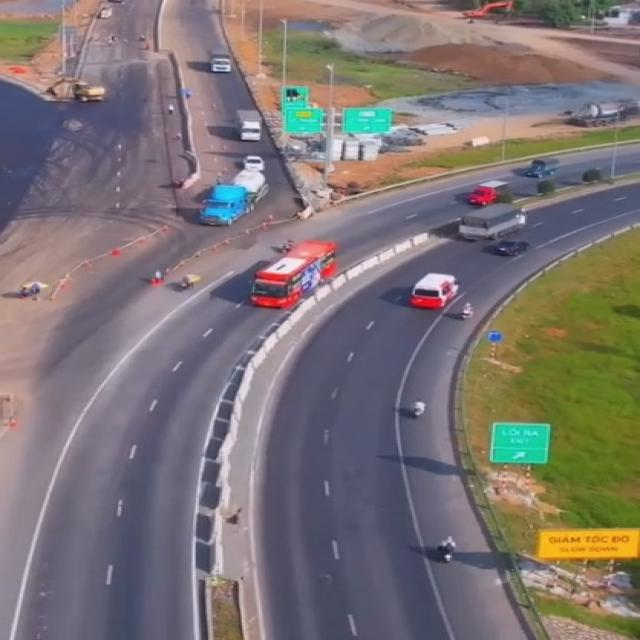bus: (248, 238, 342, 307), (407, 270, 461, 309)
car: (493, 238, 530, 258), (244, 153, 268, 172)
motorbike: (434, 536, 466, 561), (172, 274, 200, 294), (409, 395, 427, 419)
truck: (198, 169, 276, 228), (458, 204, 531, 241), (462, 179, 510, 204), (238, 106, 270, 142), (521, 153, 560, 176), (208, 44, 234, 72)
